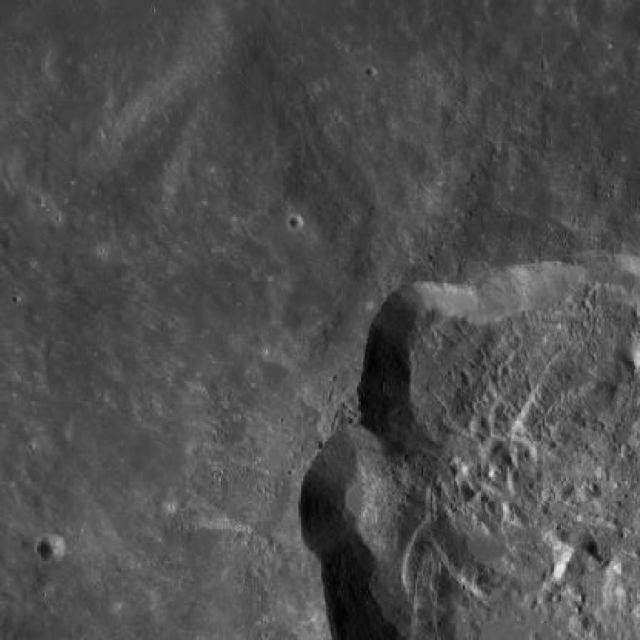crater: (586, 170, 625, 207), (38, 533, 68, 562), (110, 263, 128, 280), (290, 216, 306, 230), (0, 0, 2, 2)
